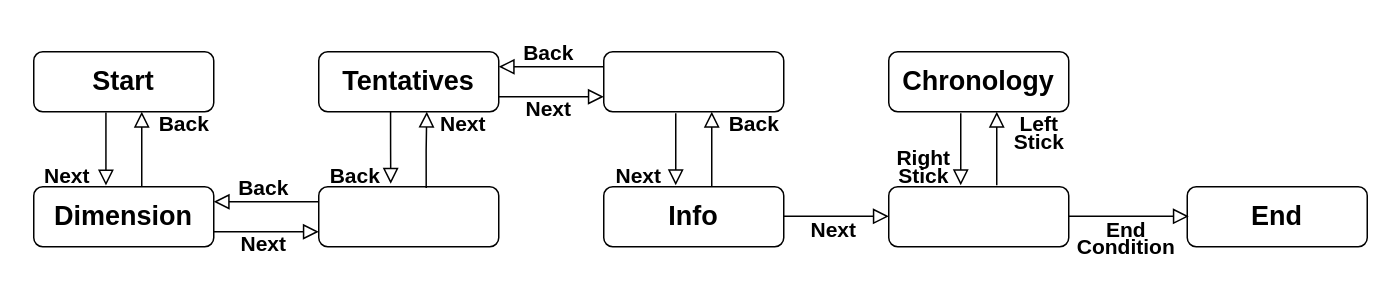
Some shapes in this 1394 by 288 pixel diagram are drawn without their labels. Here are the shapes that lost their labels. From the top down, the box of each, then its label:
(602, 50, 784, 112): Doubles
(317, 185, 499, 247): Difficulty
(887, 185, 1069, 247): Game
